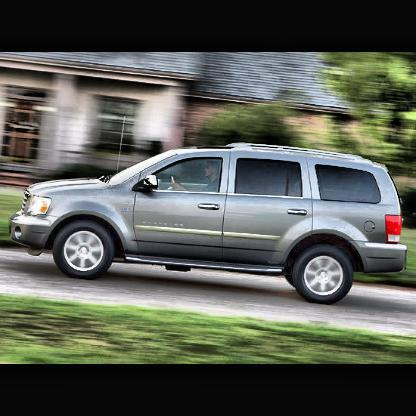Chrysler Aspen SUV 2009: (5, 139, 413, 307)
